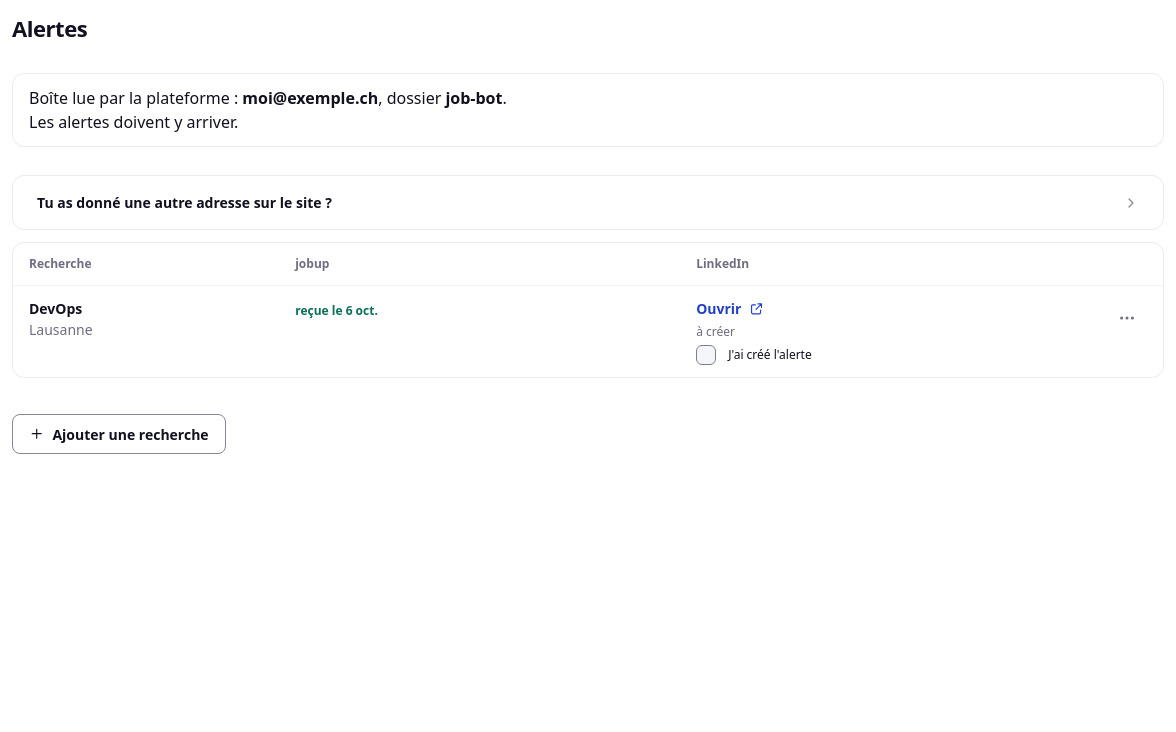
AlertsPanel (docs/20 §1) › ajout d'une recherche, mise de côté
Click the button with test id "add-alert".
click(119, 434)  # box [12,414,226,454]
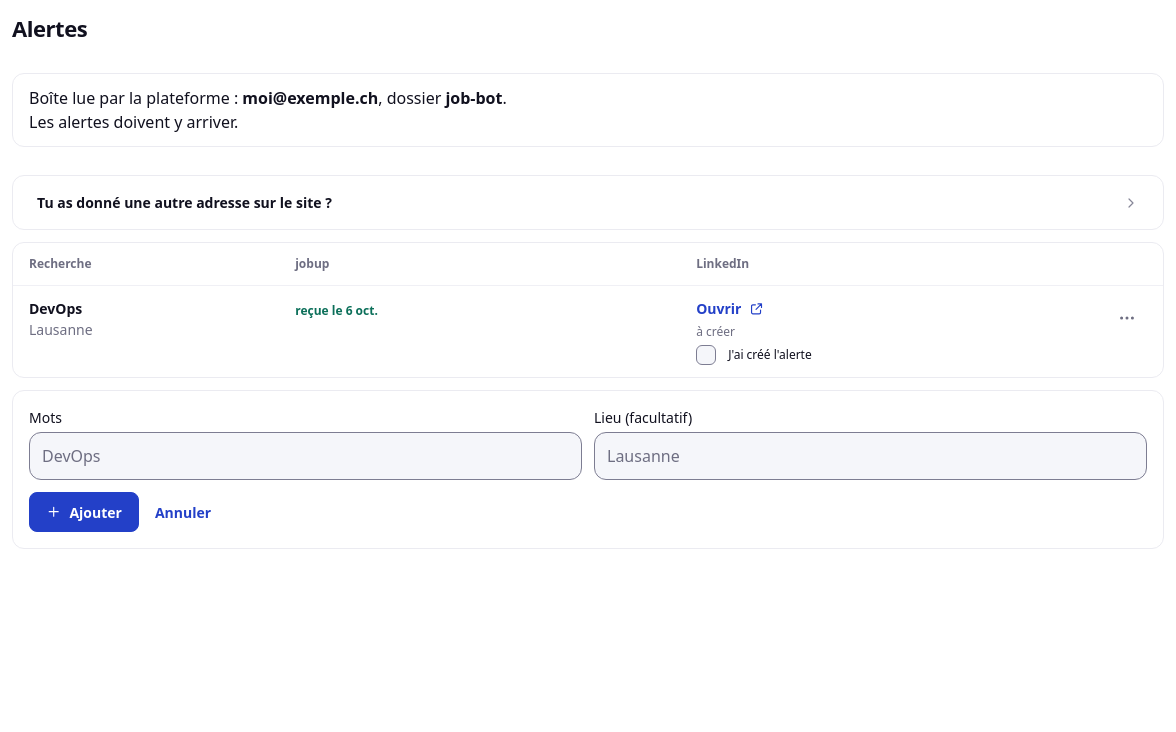
Type " SRE " into the field with test id "alert-terms".
click(306, 456); type(" SRE ")  # box [29,432,582,480]
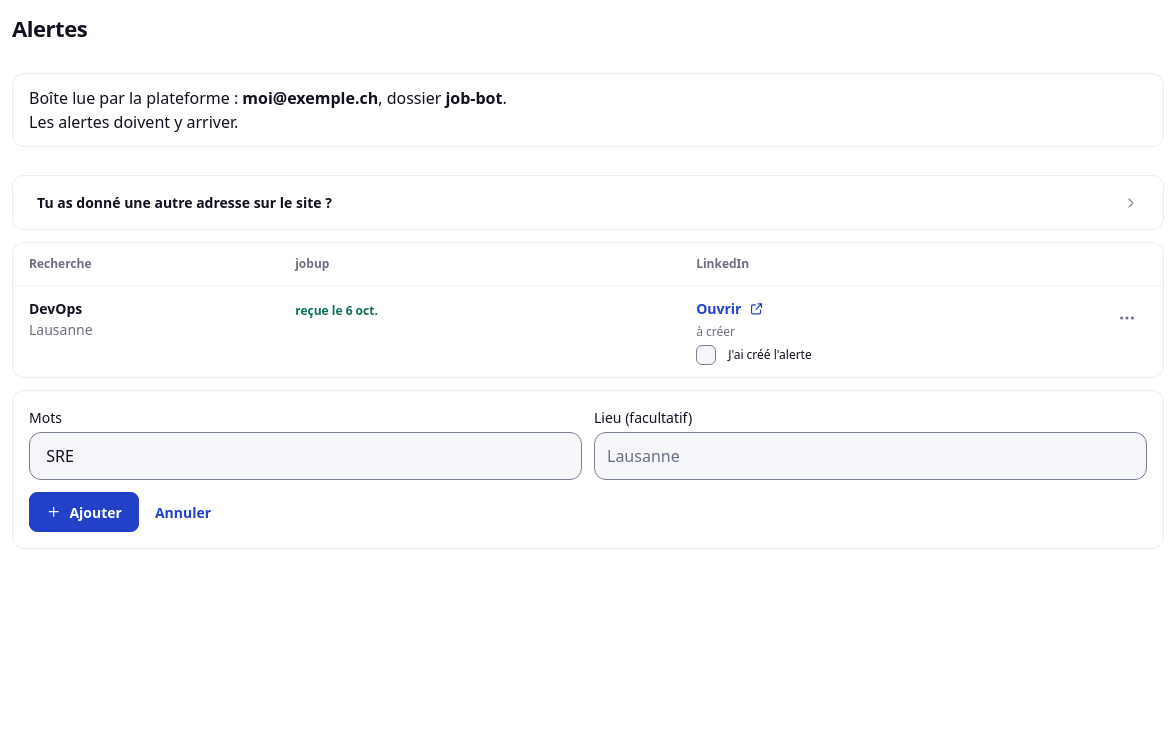
Submit the form with test id "add-alert-search", box [12,390,1164,549]
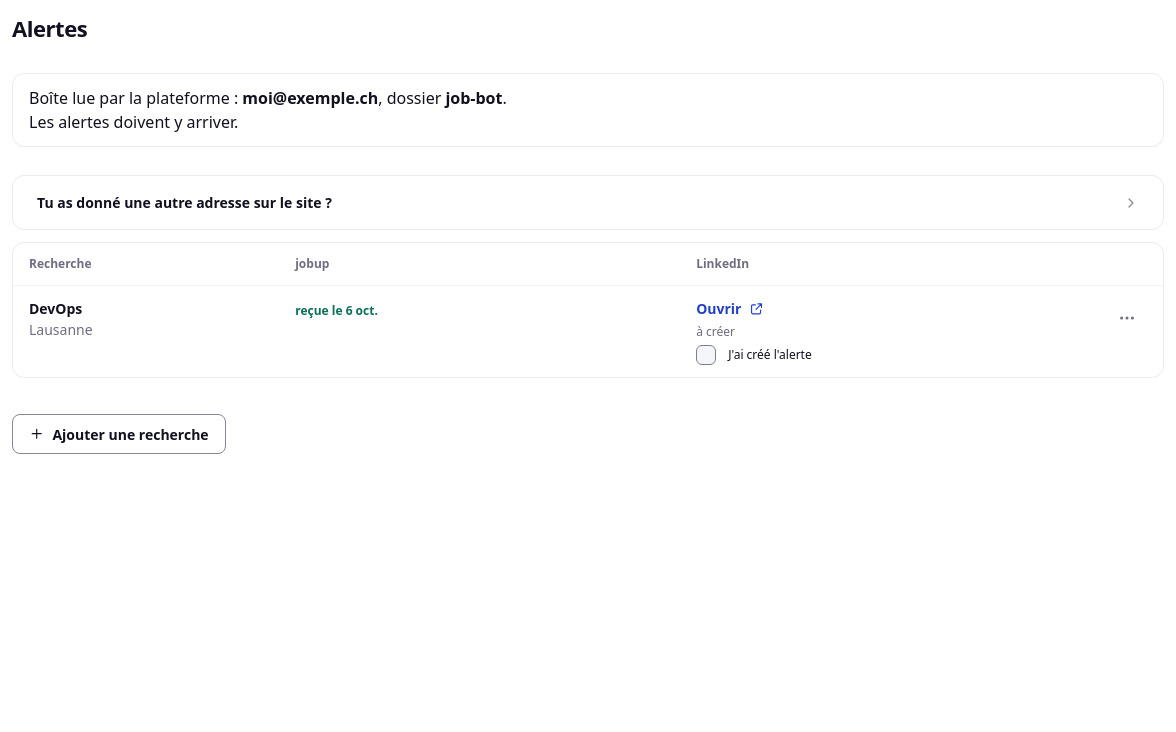
Click the button with test id "alert-more".
click(1127, 318)  # box [1107,298,1147,338]
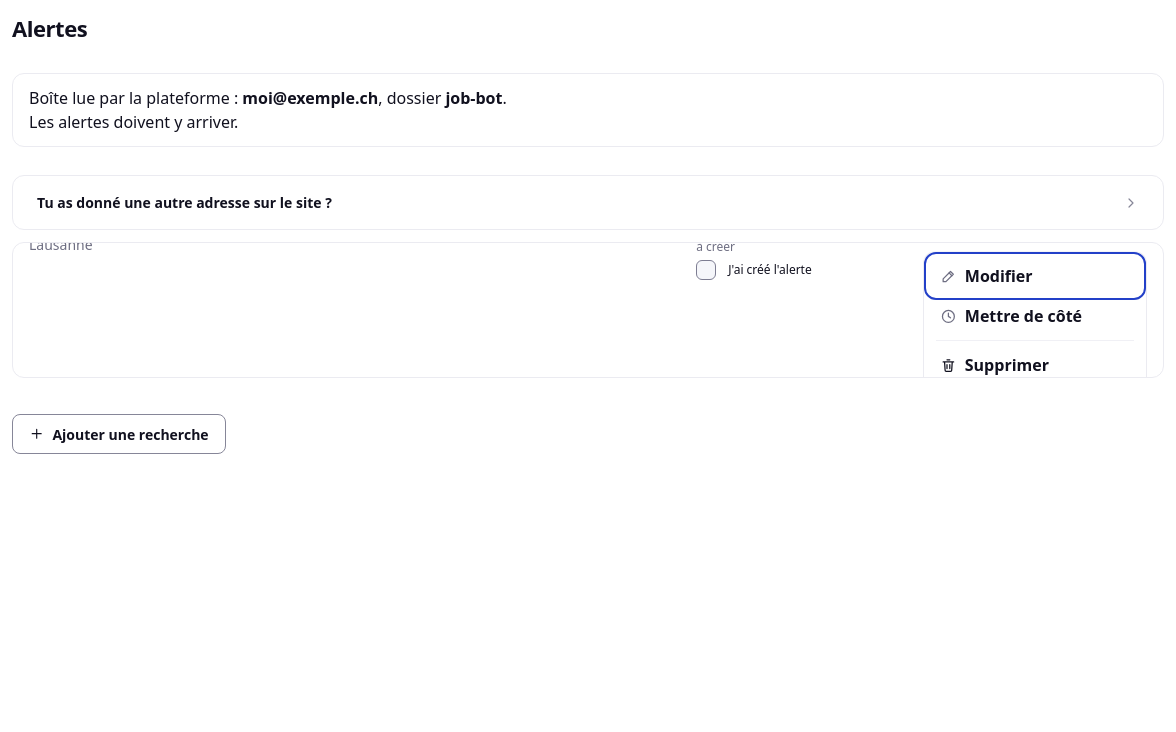
Click the menu item with test id "pause".
click(1035, 316)  # box [928,296,1142,336]
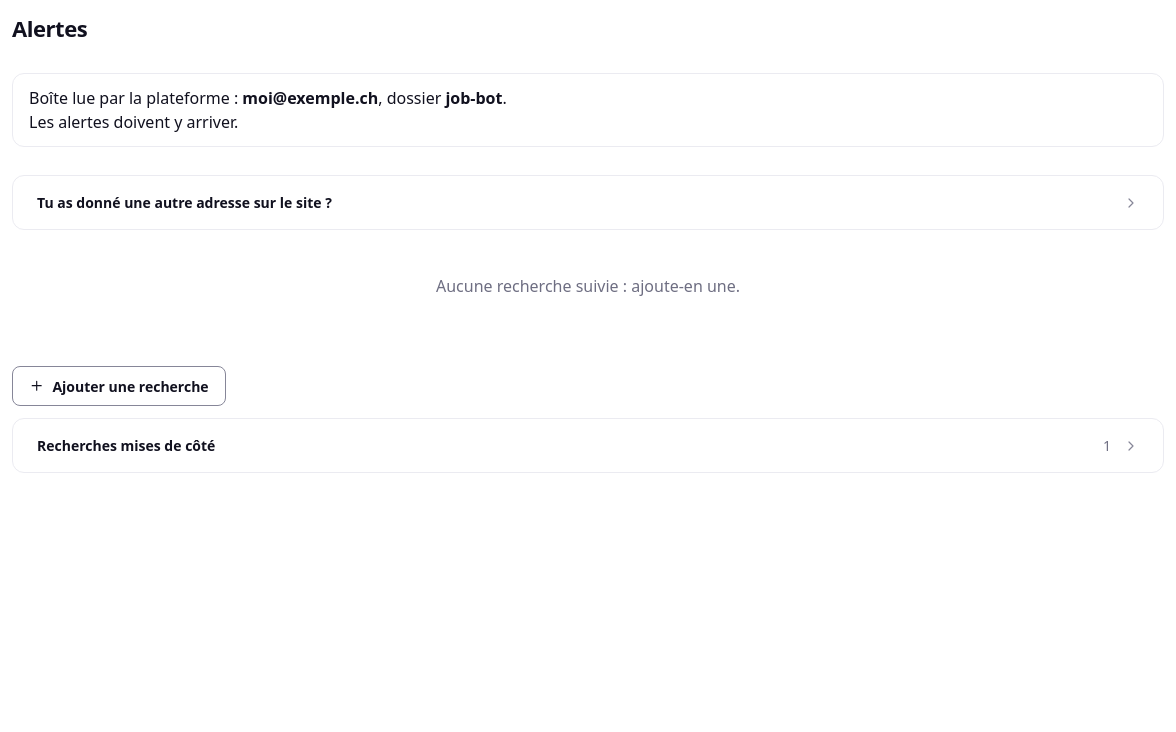
Expected: no rows with test id "alert-search" are shown
